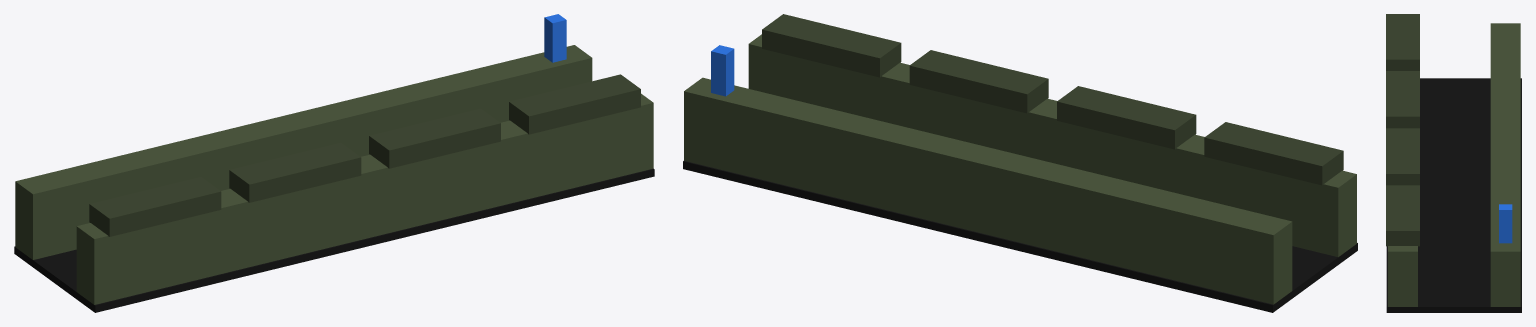
The model's file is kp_trench_line.glb.
3 renders of one model, left to right at view 1: azimuth 30°, elevation 25°; view 2: azimuth 150°, elevation 25°; view 3: azimuth 270°, elevation 25°, orthographic. The views are drawn at different scales.
Visible parts, largest first — view 1: wall_0, wall_1, base, sandbag_1, sandbag_0, sandbag_3, sandbag_2, team_post; view 2: wall_1, wall_0, base, sandbag_0, sandbag_2, sandbag_3, sandbag_1, team_post; view 3: base, wall_1, sandbag_3, sandbag_1, sandbag_2, sandbag_0, wall_0, team_post.
Boxes of the visible parts, box(x1,y1,x2,y2) form: wall_0: box(76, 93, 653, 304); wall_1: box(15, 45, 592, 259); base: box(14, 168, 654, 312); sandbag_1: box(229, 142, 361, 202); sandbag_0: box(89, 177, 221, 236); sandbag_3: box(509, 74, 640, 134); sandbag_2: box(369, 108, 500, 168); team_post: box(544, 14, 566, 62); wall_1: box(684, 77, 1292, 304); wall_0: box(748, 34, 1356, 257); base: box(683, 161, 1357, 312); sandbag_0: box(1204, 122, 1343, 185); sandbag_2: box(909, 50, 1048, 113); sandbag_3: box(762, 14, 901, 77); sandbag_1: box(1057, 86, 1196, 149); team_post: box(711, 45, 734, 96); base: box(1386, 78, 1521, 312); wall_1: box(1490, 23, 1520, 306); sandbag_3: box(1386, 185, 1419, 246); sandbag_1: box(1386, 71, 1419, 128); sandbag_2: box(1386, 128, 1419, 185); sandbag_0: box(1386, 14, 1419, 70); wall_0: box(1388, 246, 1417, 306); team_post: box(1499, 204, 1512, 243).
Size of the model in its own units: 8 by 1.54 by 2.01.
